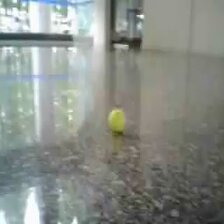tennis: (107, 109, 125, 131)
